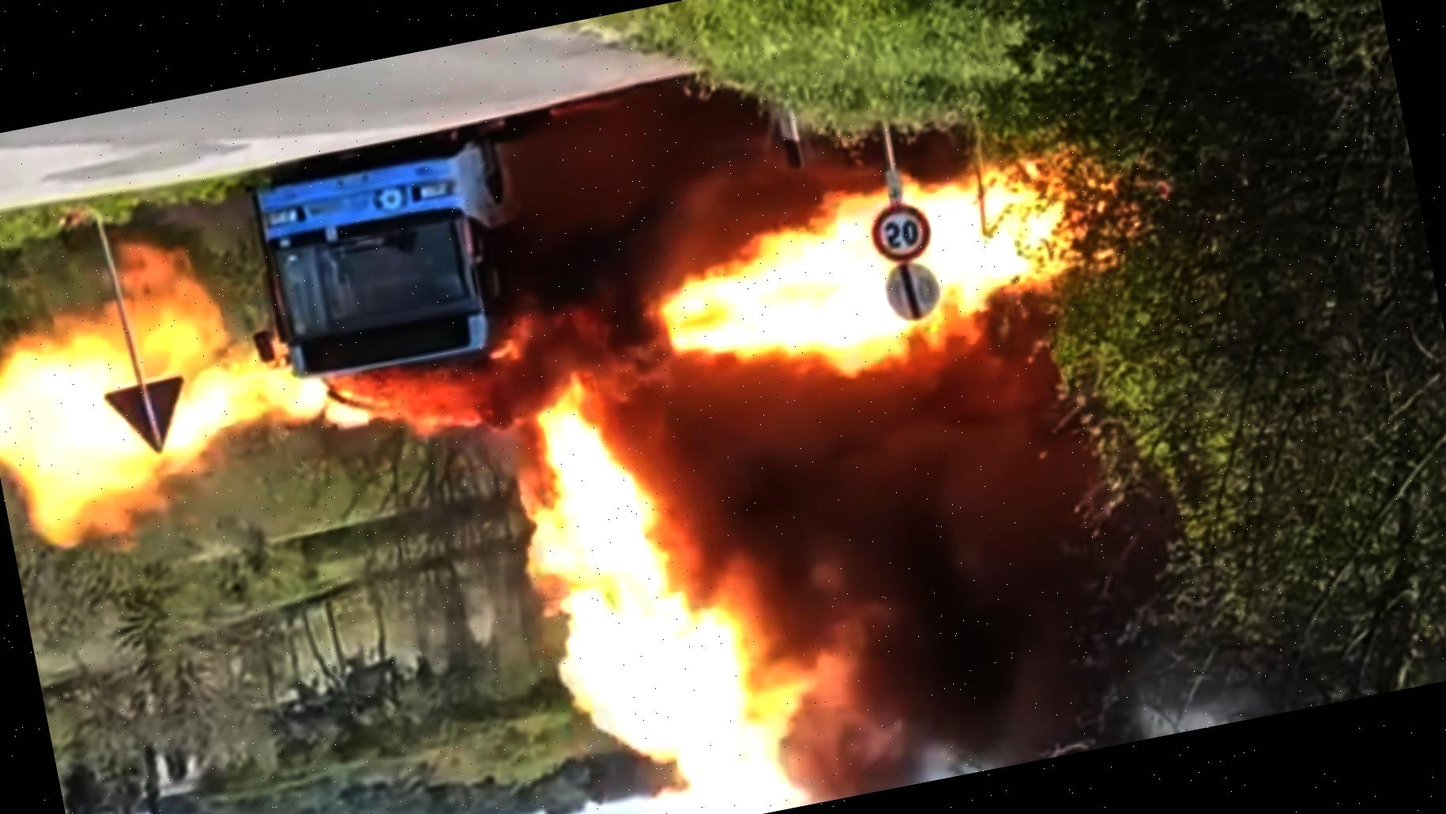fire: (459, 339, 782, 814), (0, 227, 352, 571), (669, 152, 1116, 361)
smoke: (736, 295, 1210, 793), (473, 82, 720, 326)
